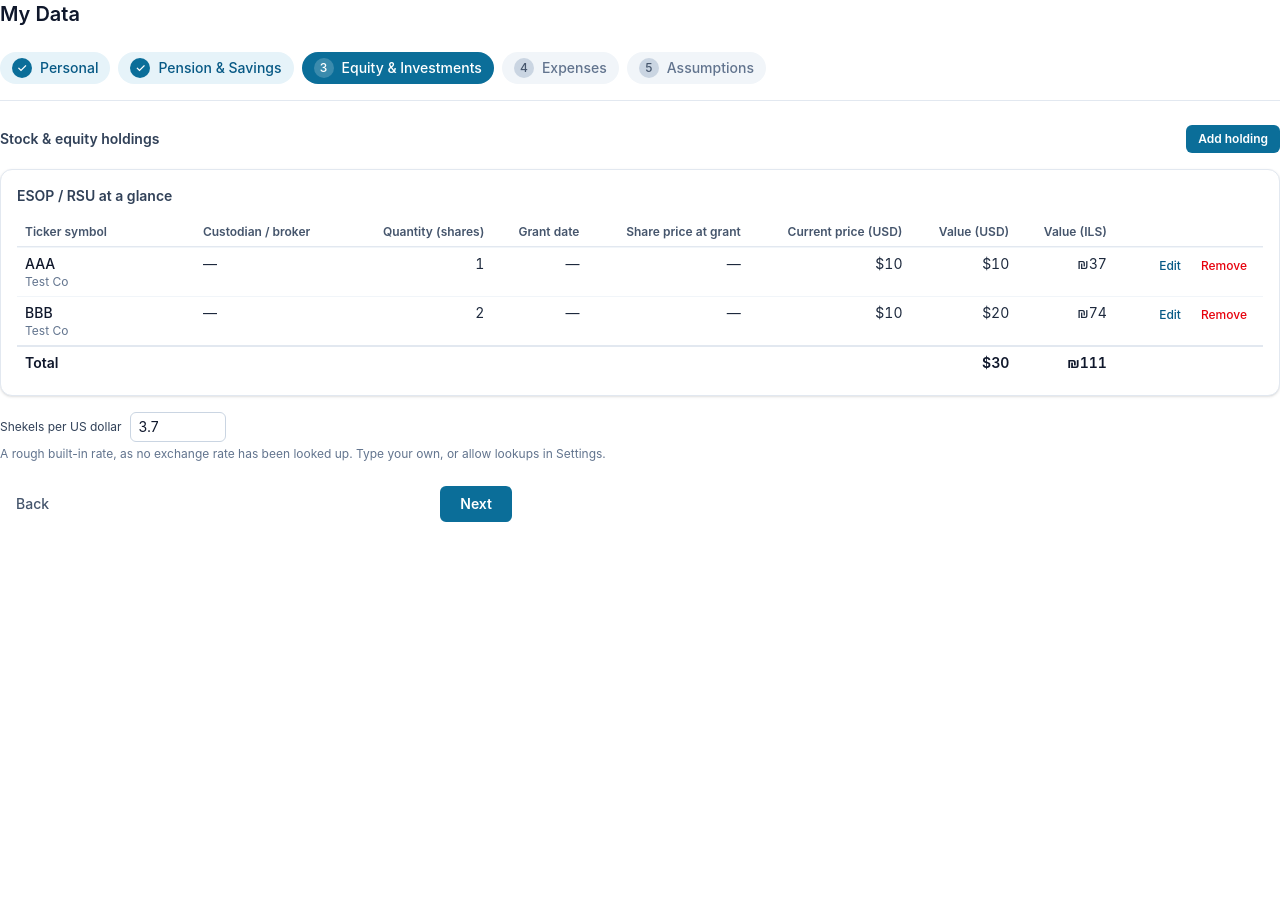
Test: My Data summary tables — Equity & Investments › has Edit and Remove on every row and the Add holding action above the tables
Expected: the column heading named "Actions" is shown, [1115,218,1263,246]
Click the button "Edit" in the row of "BBB" at (1170, 315), box [1151,303,1189,327]
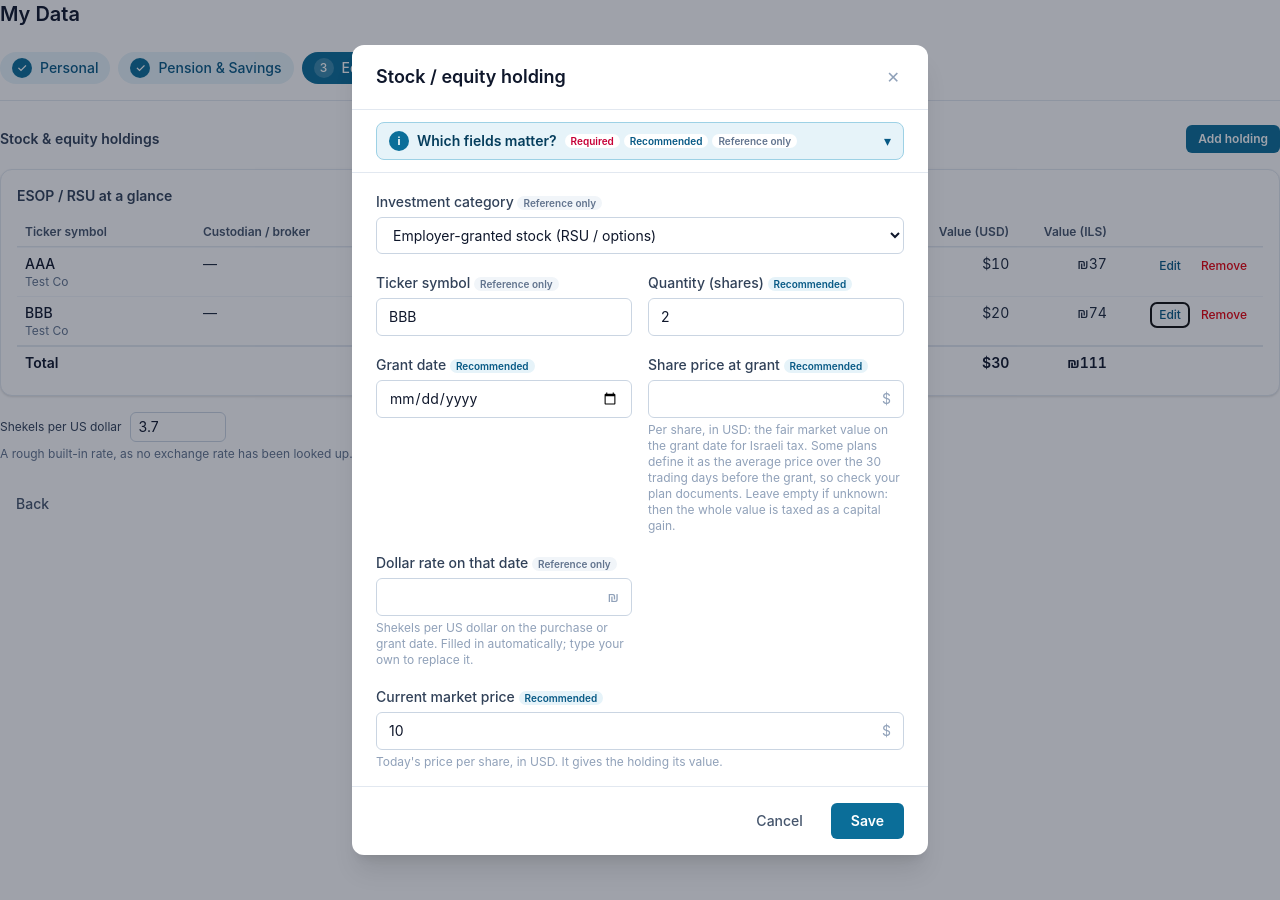
Now the field labelled "Ticker symbol Reference only" holds "BBB", box [376,298,632,336]
